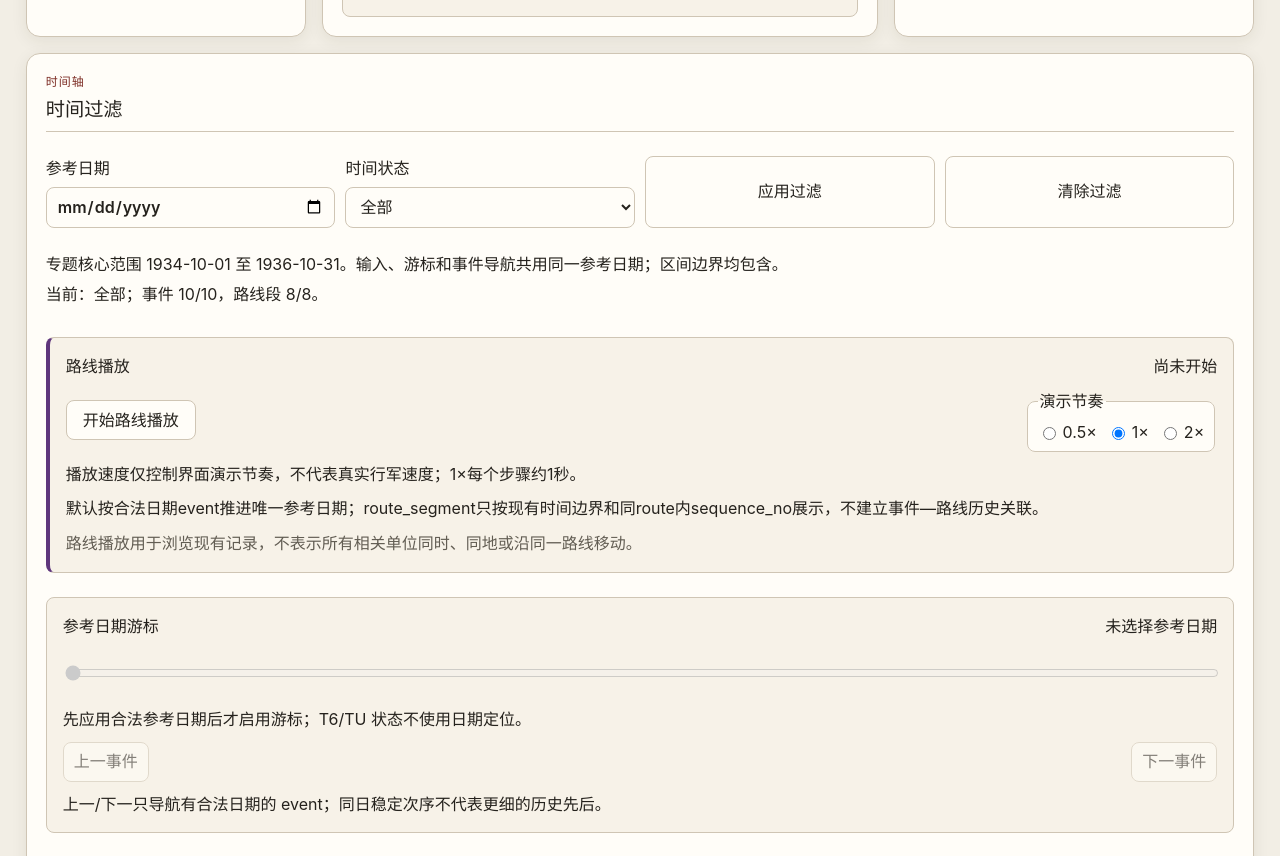
application layout and map integration › starts, pauses and changes UI cadence without opening details
(page scrolled)
Click the button "开始路线播放" at [131, 420], box 66,400 -> 196,440
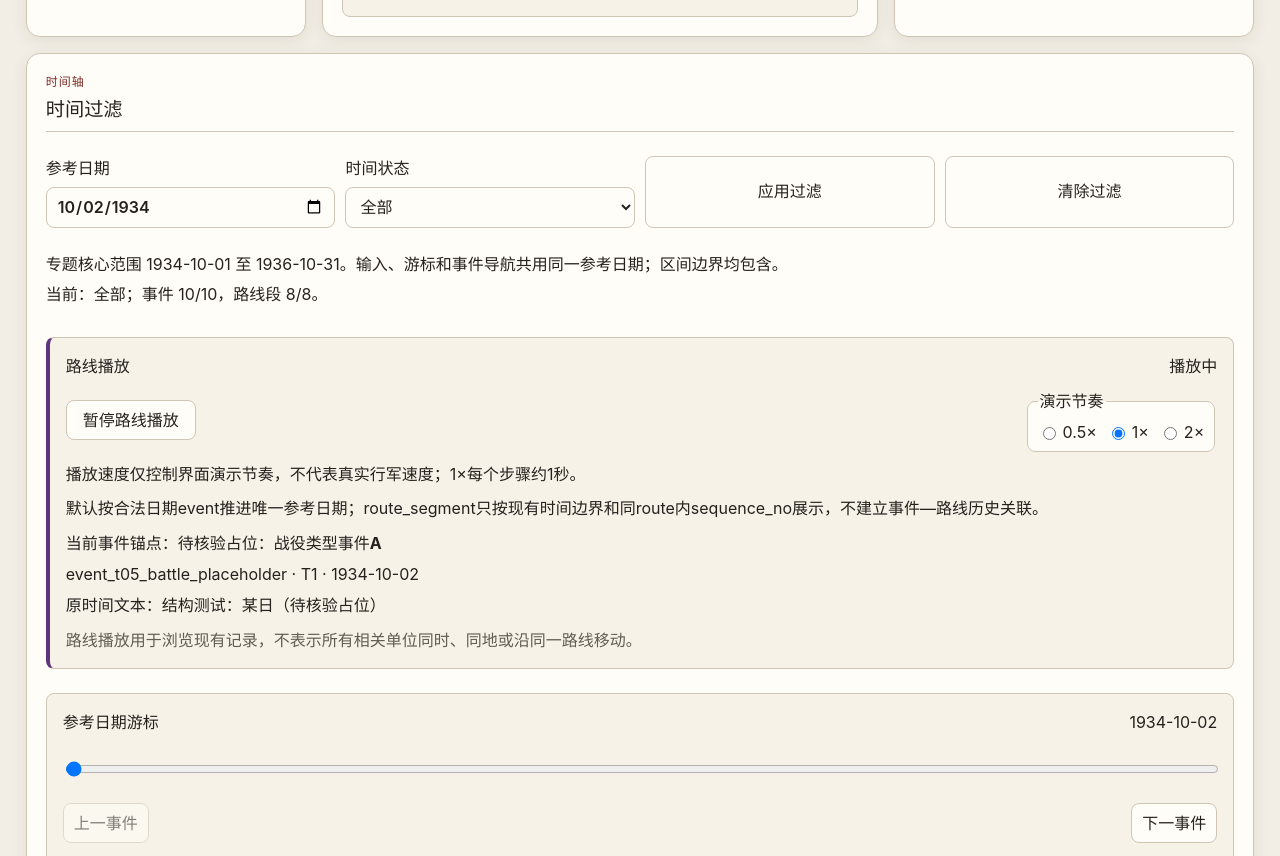
Now the button "暂停路线播放" is shown, box 66,400 -> 196,440
Now the text "当前事件锚点：待核验占位：战役类型事件A" is shown, box 66,533 -> 382,553
Click the radio button labelled "2×" at [1170, 434], box 1164,427 -> 1177,440
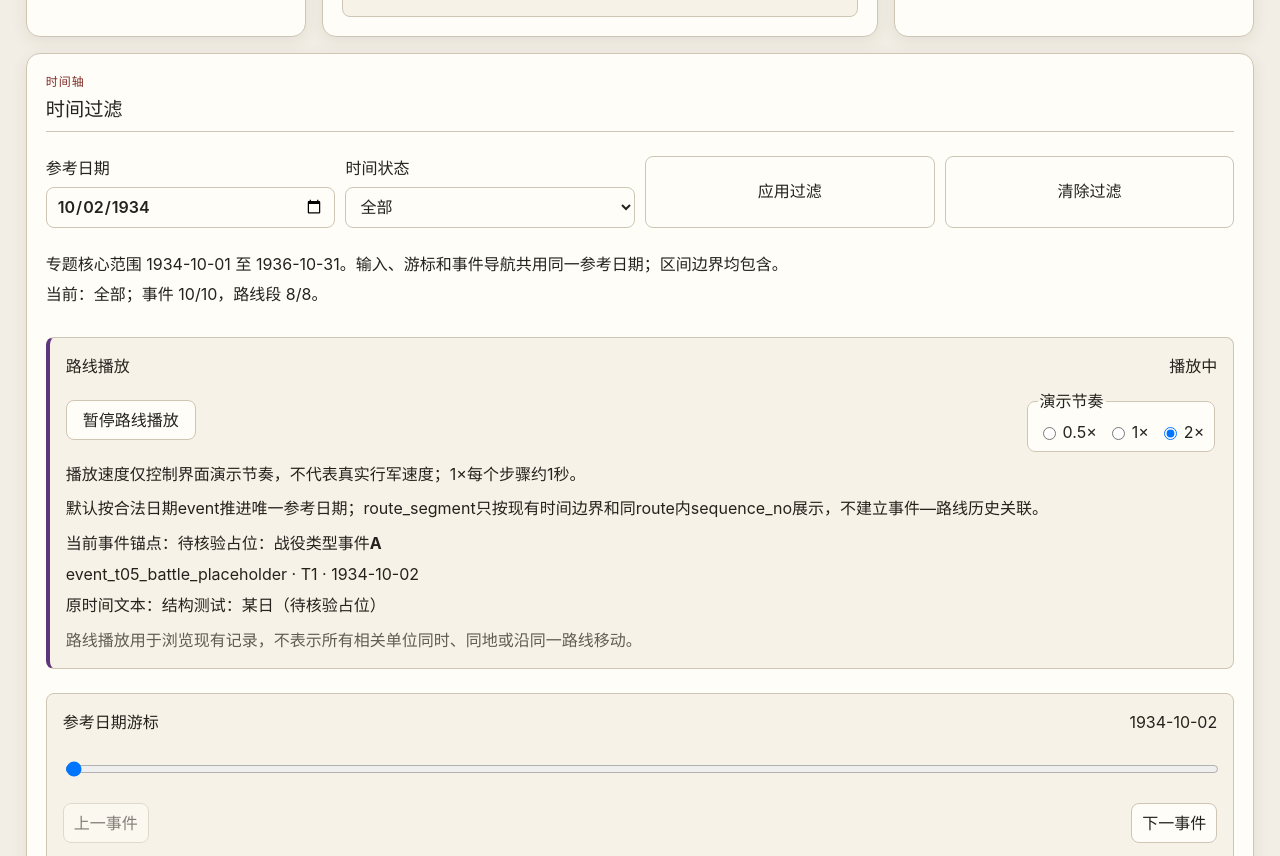
Now the radio button labelled "2×" is checked, box 1164,427 -> 1177,440
Click the button "暂停路线播放" at [131, 420], box 66,400 -> 196,440
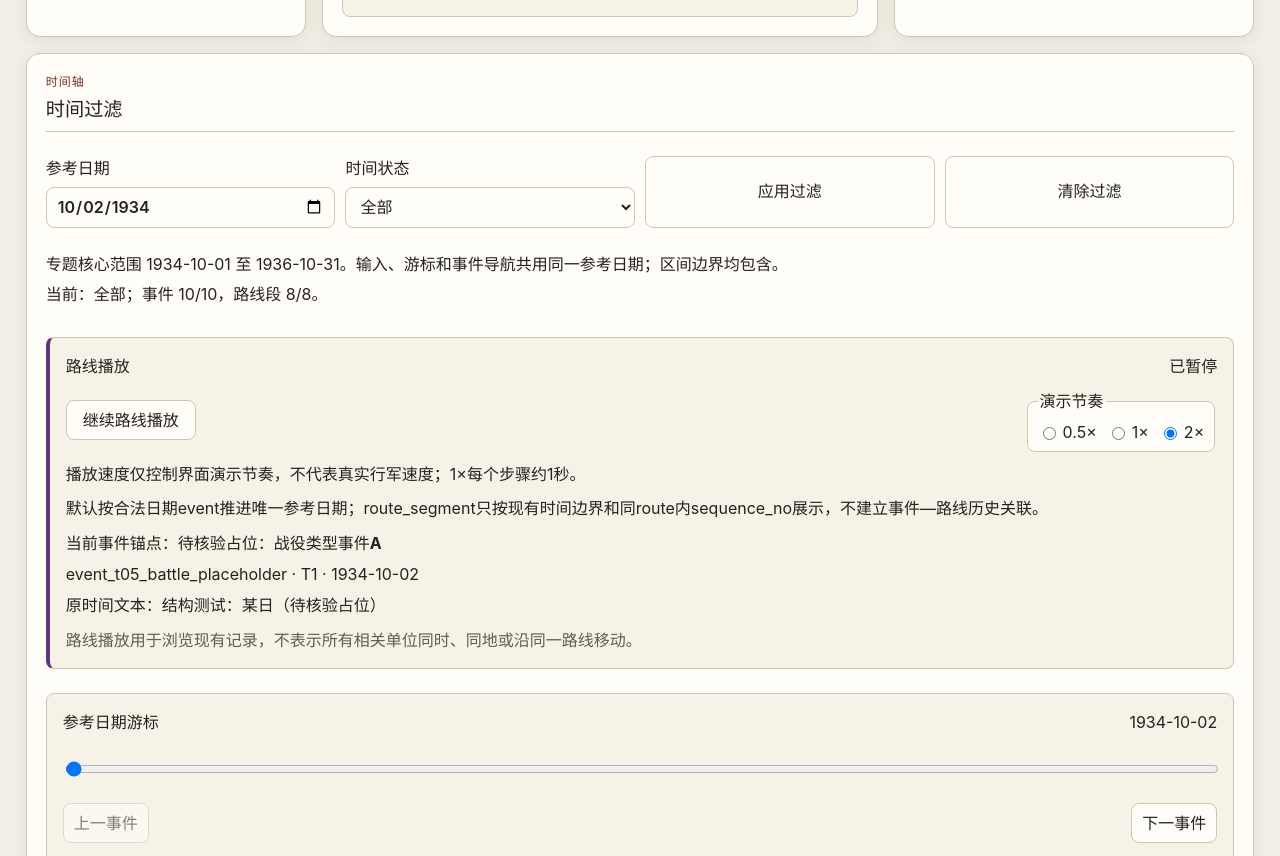
Now the button "继续路线播放" is shown, box 66,400 -> 196,440
